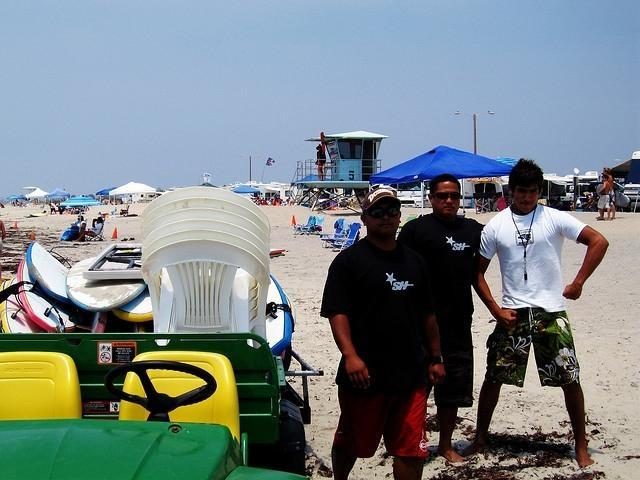car: (0, 192, 302, 474)
